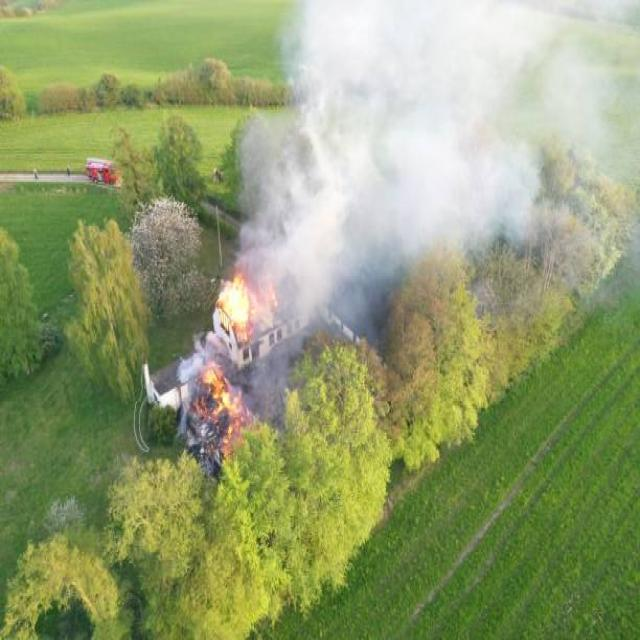Fire: (190, 364, 246, 456), (214, 275, 253, 343)
Smoke: (240, 0, 640, 284)
